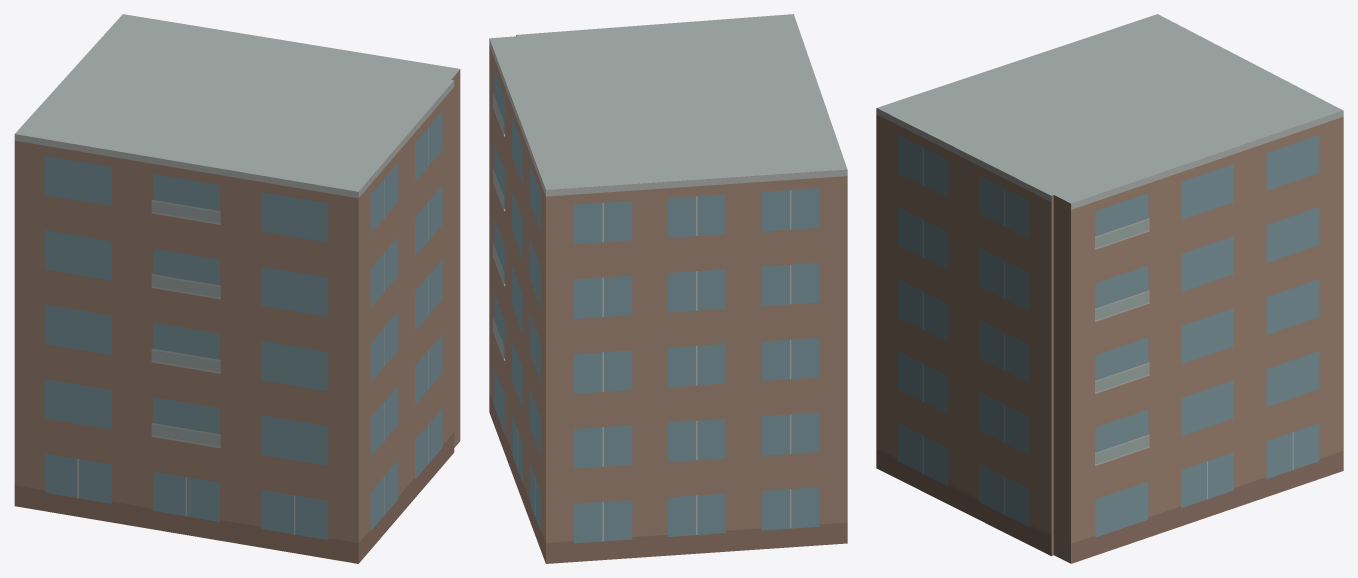
Rendered from survey-upis-32746870.glb.
3 views of the same model, side by side, from view 1: azimuth 30°, elevation 25°; view 2: azimuth 150°, elevation 25°; view 3: azimuth 270°, elevation 25° (orthographic). The views are drawn at different scales.
Parts seen in each view (by area): view 1: survey-upis-32746870.tmp; view 2: survey-upis-32746870.tmp; view 3: survey-upis-32746870.tmp.
Part boxes in pixels (x1,y1,x2,y2): survey-upis-32746870.tmp: (14, 14, 460, 563); survey-upis-32746870.tmp: (489, 14, 847, 563); survey-upis-32746870.tmp: (876, 14, 1343, 563).
Size of the model in its own units: 15.81 by 14 by 16.46.
